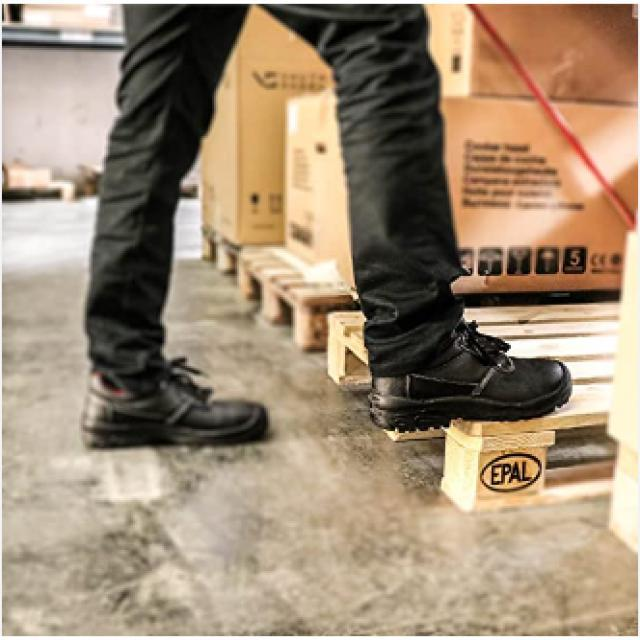shoes: (79, 301, 580, 458)
